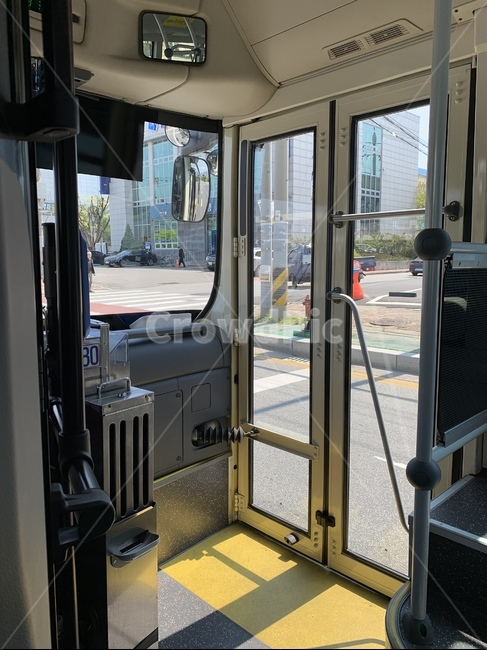exit: (219, 68, 470, 608)
